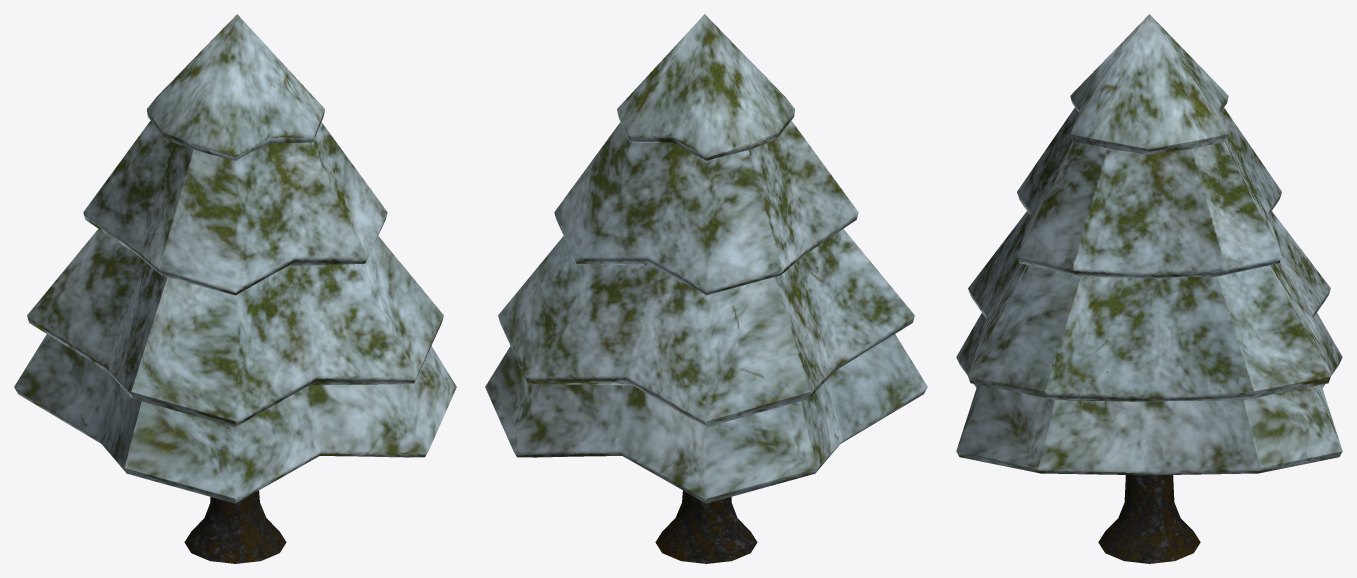
The model's file is Arctic_Tree_SM.fbx.
The picture shows the model from 3 angles, left to right: view 1: azimuth 30°, elevation 25°; view 2: azimuth 150°, elevation 25°; view 3: azimuth 270°, elevation 25°; orthographic projection.
Visible parts, largest first — view 1: Arctic_Tree_SM; view 2: Arctic_Tree_SM; view 3: Arctic_Tree_SM.
Part boxes in pixels (bbox=[...]): Arctic_Tree_SM: bbox=[14, 14, 456, 563]; Arctic_Tree_SM: bbox=[485, 14, 927, 563]; Arctic_Tree_SM: bbox=[956, 14, 1342, 563].
Bounding box in the file's own units: 228 × 346 × 229.
